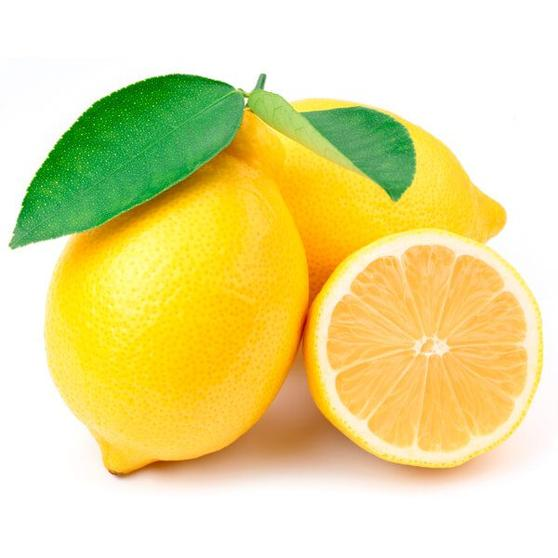lemon: (48, 150, 308, 486)
